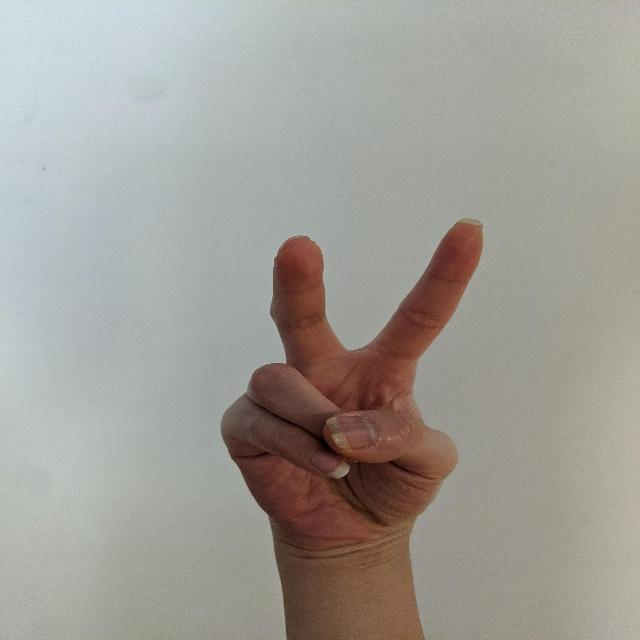V: (212, 208, 490, 551)
